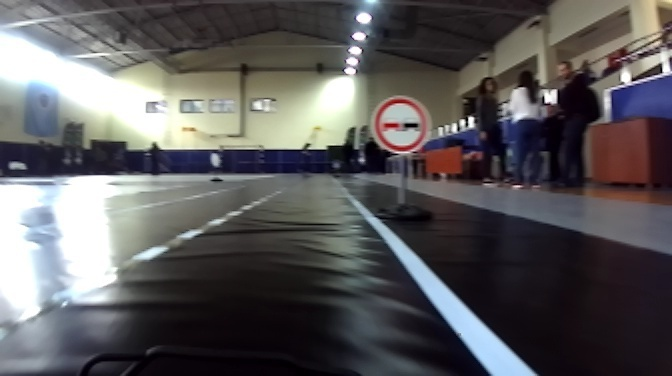sollama_yasak: (372, 97, 430, 154)
